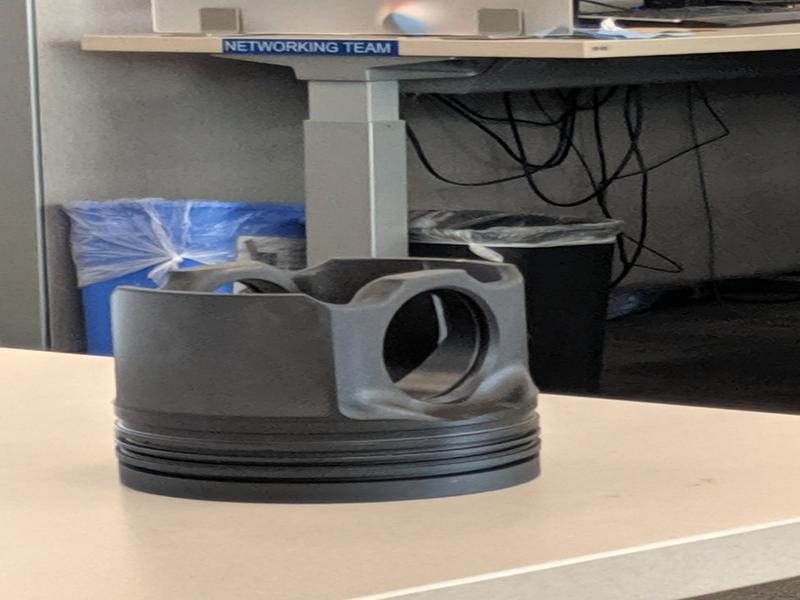piston: (102, 254, 548, 509)
